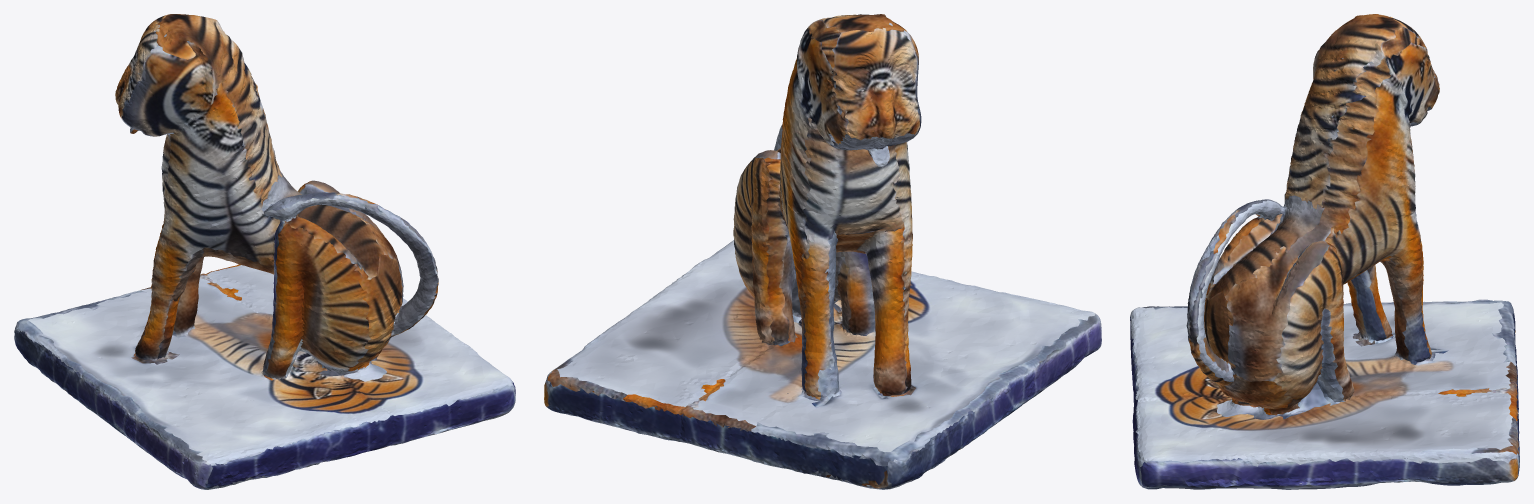
Rendered from textured_paint3d.glb.
3 renders of one model, left to right at view 1: azimuth 30°, elevation 25°; view 2: azimuth 150°, elevation 25°; view 3: azimuth 270°, elevation 25°, orthographic. The views are drawn at different scales.
Parts seen in each view (by area): view 1: Node-Mesh; view 2: Node-Mesh; view 3: Node-Mesh.
Boxes of the visible parts, bbox=[...] form: Node-Mesh: bbox=[14, 14, 515, 489]; Node-Mesh: bbox=[544, 14, 1101, 489]; Node-Mesh: bbox=[1130, 14, 1519, 489].
Bounding box in the file's own units: 1.9 × 2 × 1.95.
Materials: 1 (1 with a texture image).
